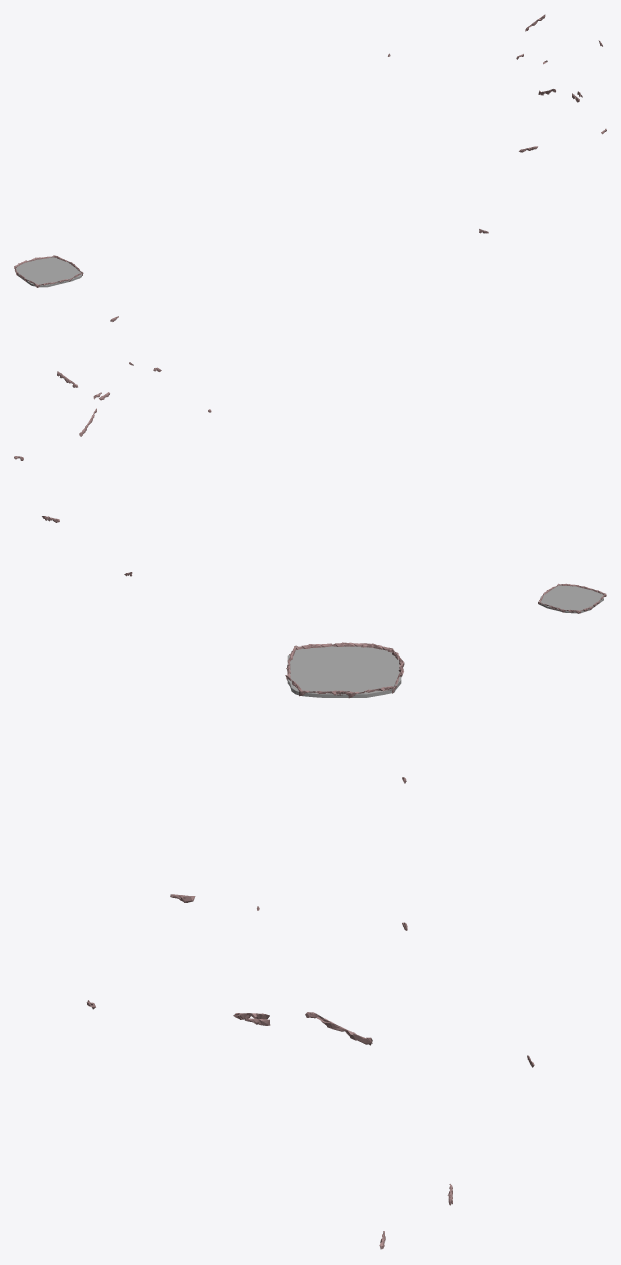
Rendered from tutorial.fbx.
3 views of the same model, one above another, from view 1: azimuth 30°, elevation 25°; view 2: azimuth 150°, elevation 25°; view 3: azimuth 270°, elevation 25° (orthographic). The views are drawn at different scales.
Visible parts, largest first — view 1: pCube2; view 2: pCube2; view 3: pCube2.
Boxes of the visible parts, <box> form: pCube2: <box>14,255,83,287</box>; pCube2: <box>538,583,606,613</box>; pCube2: <box>285,642,404,698</box>.
Bounding box in the file's own units: 10160 × 3748 × 3680.
